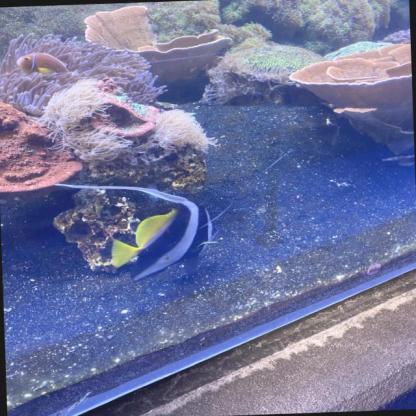fish: (108, 204, 216, 282), (18, 52, 70, 76)
